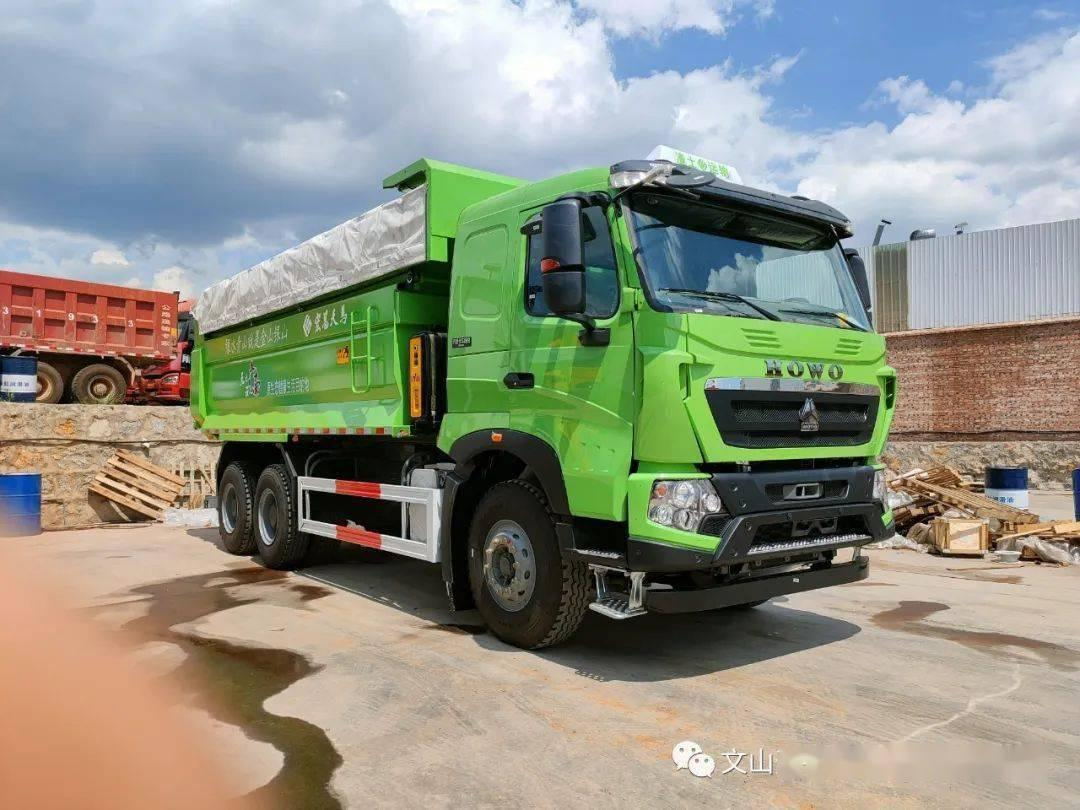truck: (164, 121, 897, 660)
